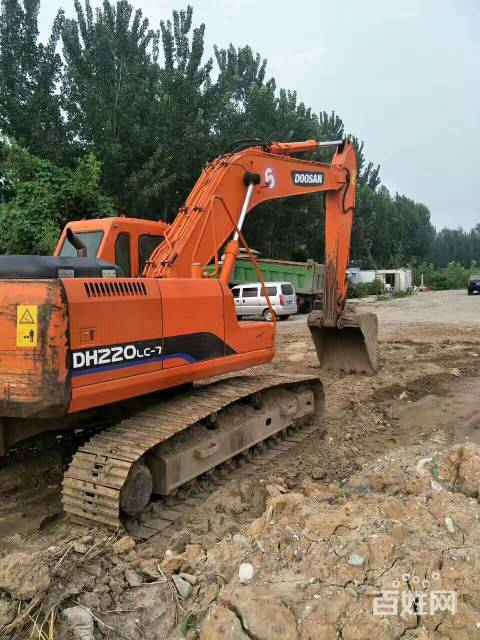excavator: (1, 130, 386, 560)
